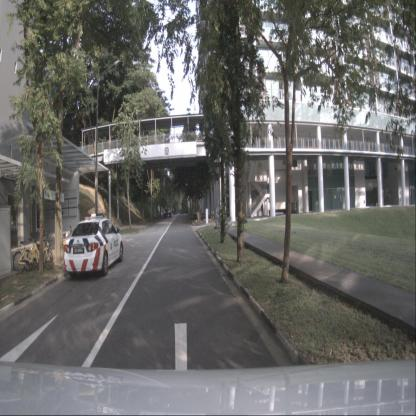vehicle-bicycle: (59, 225, 74, 257)
vehicle-car: (164, 208, 172, 219)
